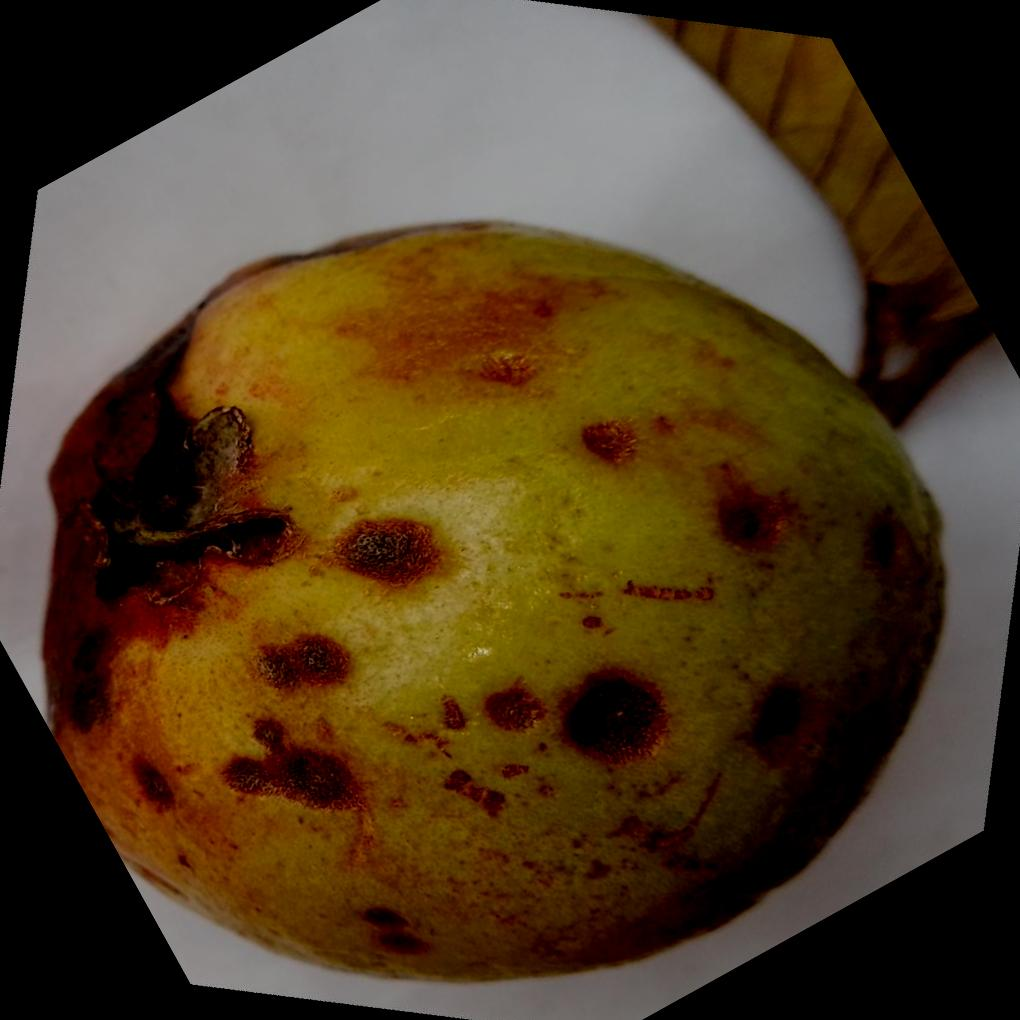FreshOrange: (37, 215, 948, 982)
